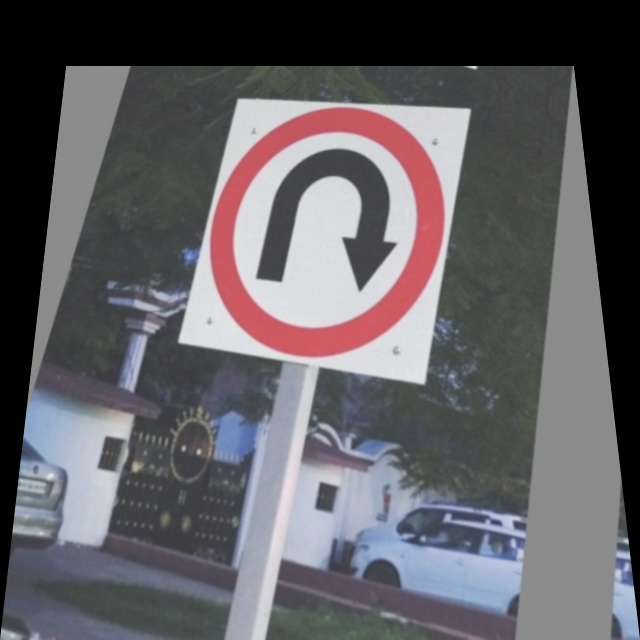U_Turn_Ahead: (173, 91, 476, 377)
